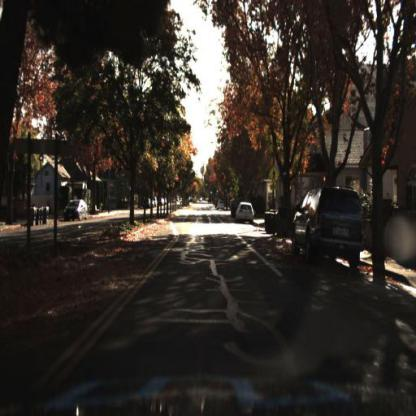car: (288, 179, 370, 273), (61, 195, 90, 227), (62, 198, 88, 220), (235, 201, 257, 222), (236, 201, 254, 225), (216, 197, 227, 213)
